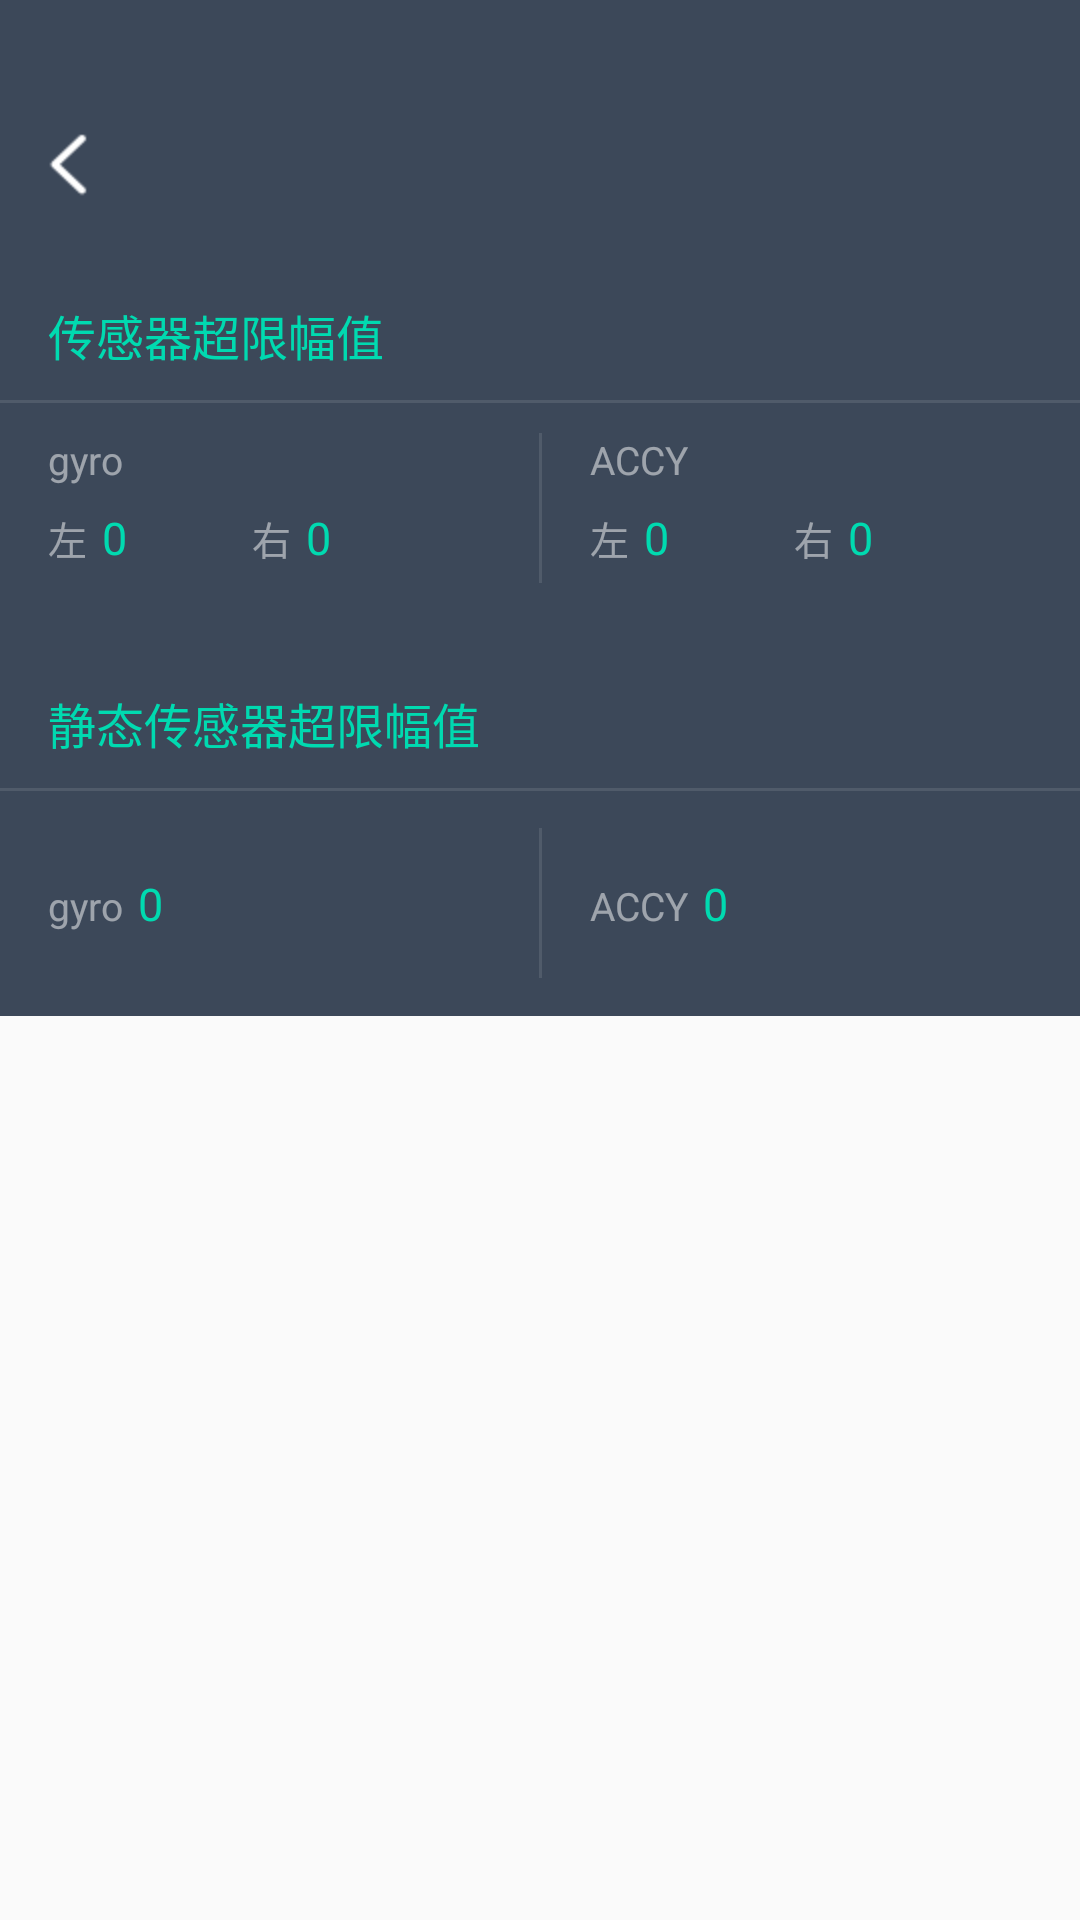

Named icons in this screenshot (1080×1920) and their centers, (x=x, y=y):
back: (x=68, y=164)
